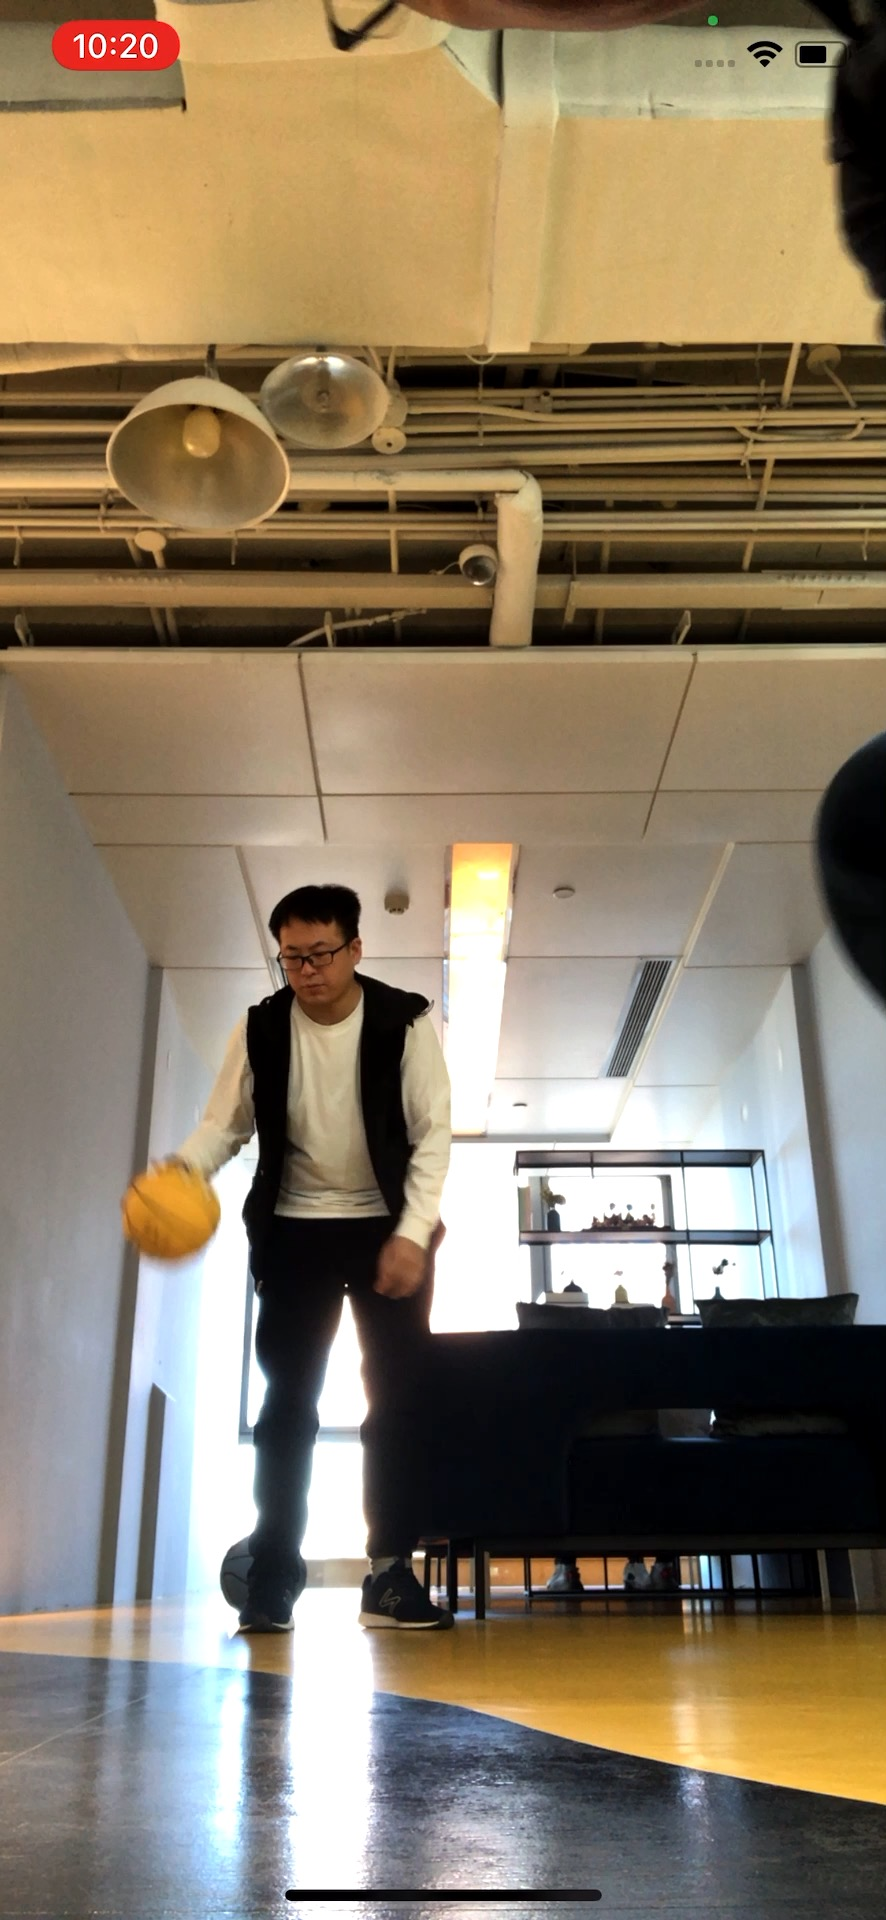ball: (124, 1163, 223, 1261)
